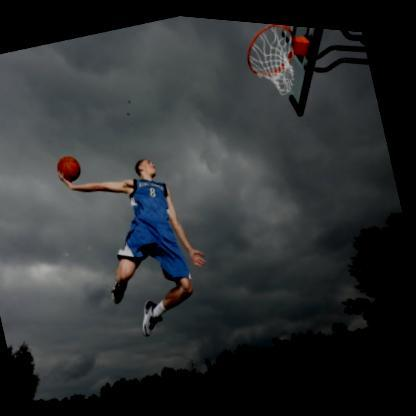basketball: (55, 150, 86, 183)
rim: (235, 17, 312, 100)
